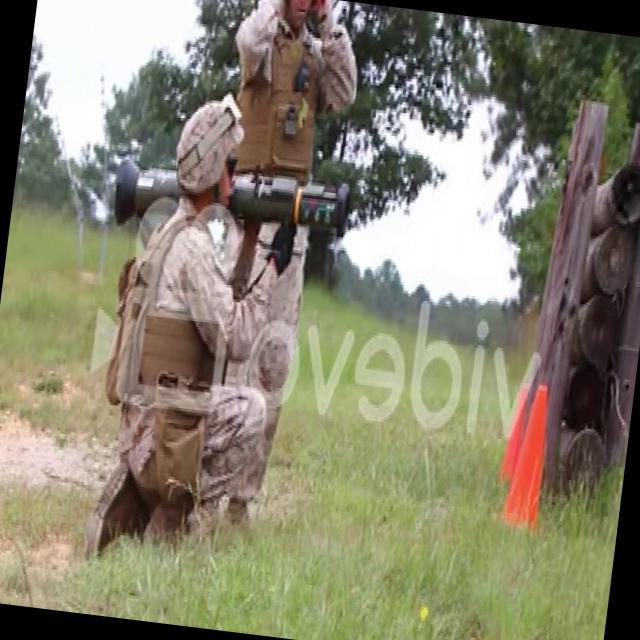rocket: (113, 151, 350, 253)
